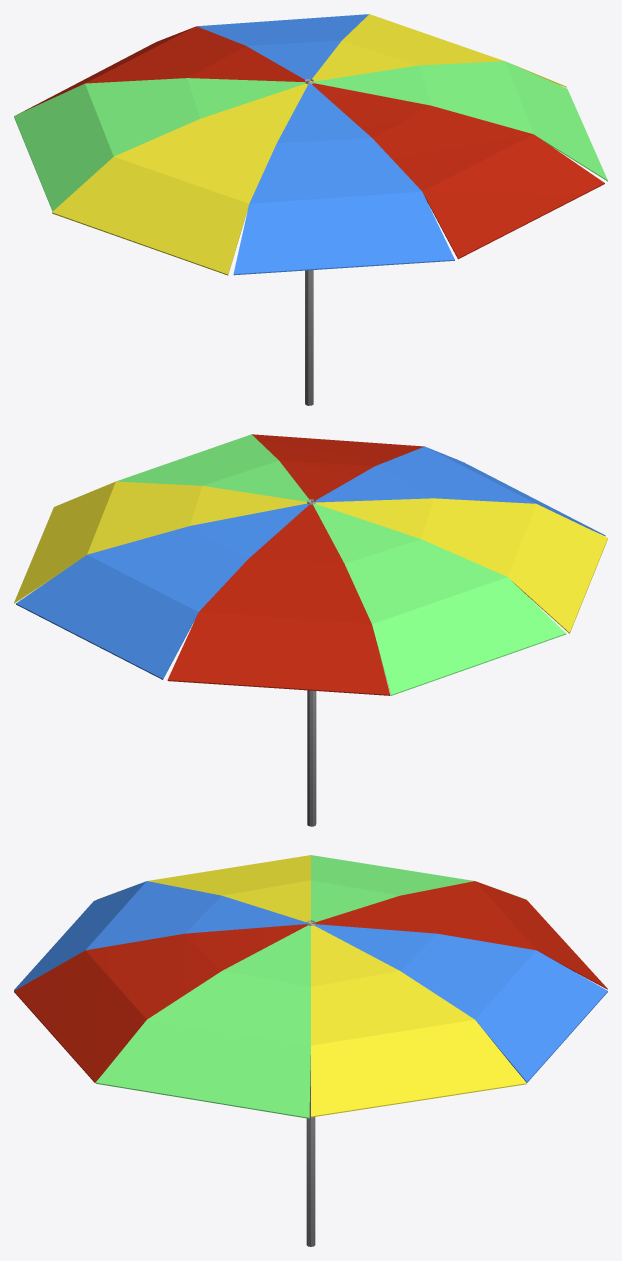
File: PayungOutDoor.fbx
The picture shows the model from 3 angles, top to bottom: view 1: azimuth 30°, elevation 25°; view 2: azimuth 150°, elevation 25°; view 3: azimuth 270°, elevation 25°; orthographic projection.
Visible parts, largest first — view 1: PayungOutdoorBody1_LOD0, PayungOutdoorBody2_LOD0; view 2: PayungOutdoorBody1_LOD0, PayungOutdoorBody2_LOD0; view 3: PayungOutdoorBody1_LOD0, PayungOutdoorBody2_LOD0.
Part boxes in pixels (x1=…): PayungOutdoorBody1_LOD0: x1=14, y1=14, x2=607, y2=275; PayungOutdoorBody2_LOD0: x1=305, y1=79, x2=313, y2=405; PayungOutdoorBody1_LOD0: x1=14, y1=434, x2=607, y2=695; PayungOutdoorBody2_LOD0: x1=307, y1=499, x2=316, y2=826; PayungOutdoorBody1_LOD0: x1=14, y1=855, x2=607, y2=1118; PayungOutdoorBody2_LOD0: x1=306, y1=920, x2=315, y2=1246.
Size of what is drawn, in the model's own units: 452 by 271 by 452.
